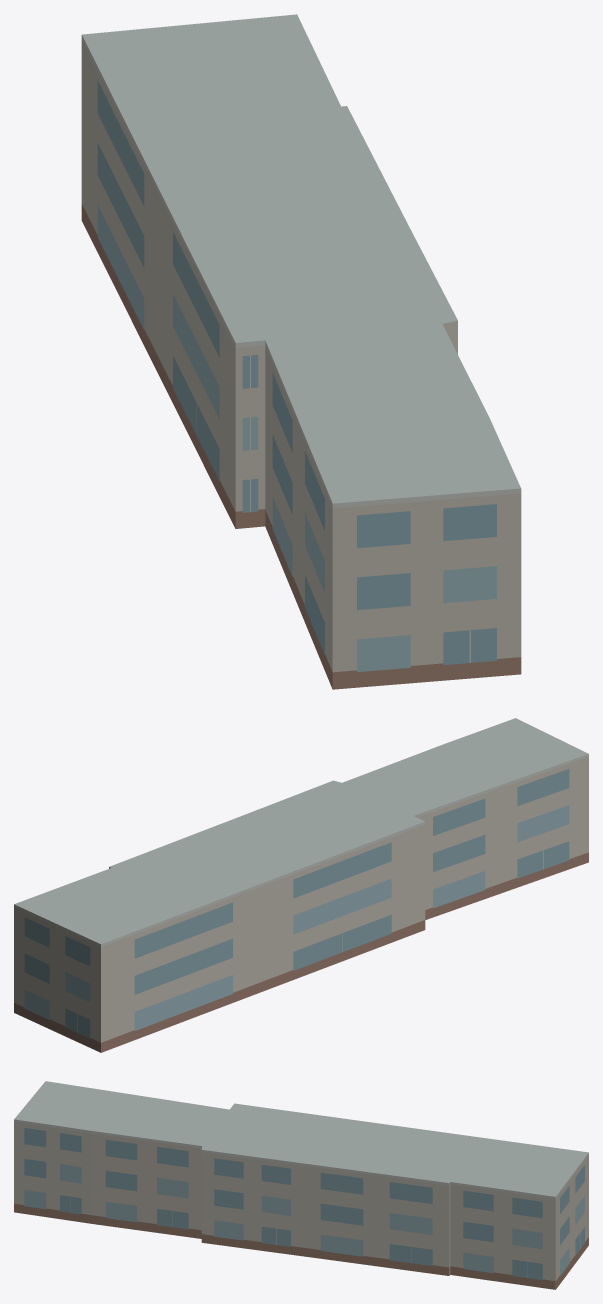
The model's file is survey-upis-32527428.glb.
3 renders of one model, top to bottom at view 1: azimuth 30°, elevation 25°; view 2: azimuth 150°, elevation 25°; view 3: azimuth 270°, elevation 25°, orthographic. The views are drawn at different scales.
Parts seen in each view (by area): view 1: survey-upis-32527428.tmp; view 2: survey-upis-32527428.tmp; view 3: survey-upis-32527428.tmp.
Boxes of the visible parts, bbox=[...] form: survey-upis-32527428.tmp: bbox=[81, 14, 521, 689]; survey-upis-32527428.tmp: bbox=[14, 718, 588, 1052]; survey-upis-32527428.tmp: bbox=[14, 1081, 588, 1289].
Size of the model in its own units: 24.45 by 9.15 by 51.28.
